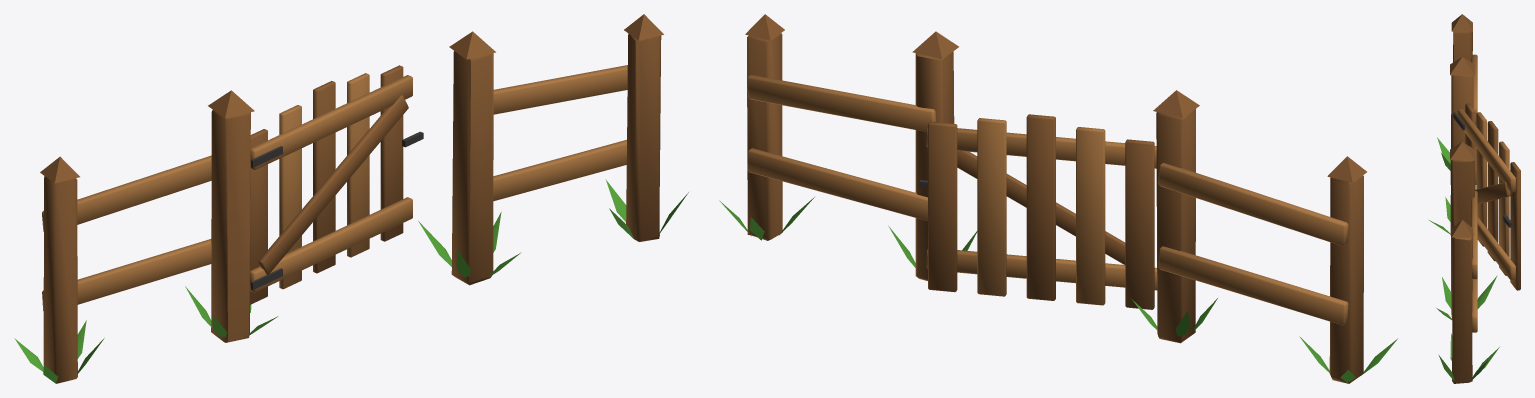
The model's file is fence_gate.glb.
The picture shows the model from 3 angles, left to right: view 1: azimuth 30°, elevation 25°; view 2: azimuth 150°, elevation 25°; view 3: azimuth 270°, elevation 25°; orthographic projection. The views are drawn at different scales.
Visible parts, largest first — view 1: fence_gate; view 2: fence_gate; view 3: fence_gate.
Boxes of the visible parts, bbox=[...] form: fence_gate: bbox=[14, 14, 688, 383]; fence_gate: bbox=[719, 14, 1397, 383]; fence_gate: bbox=[1429, 14, 1520, 383].
Size of the model in its own units: 3.32 by 1.22 by 0.5779.
